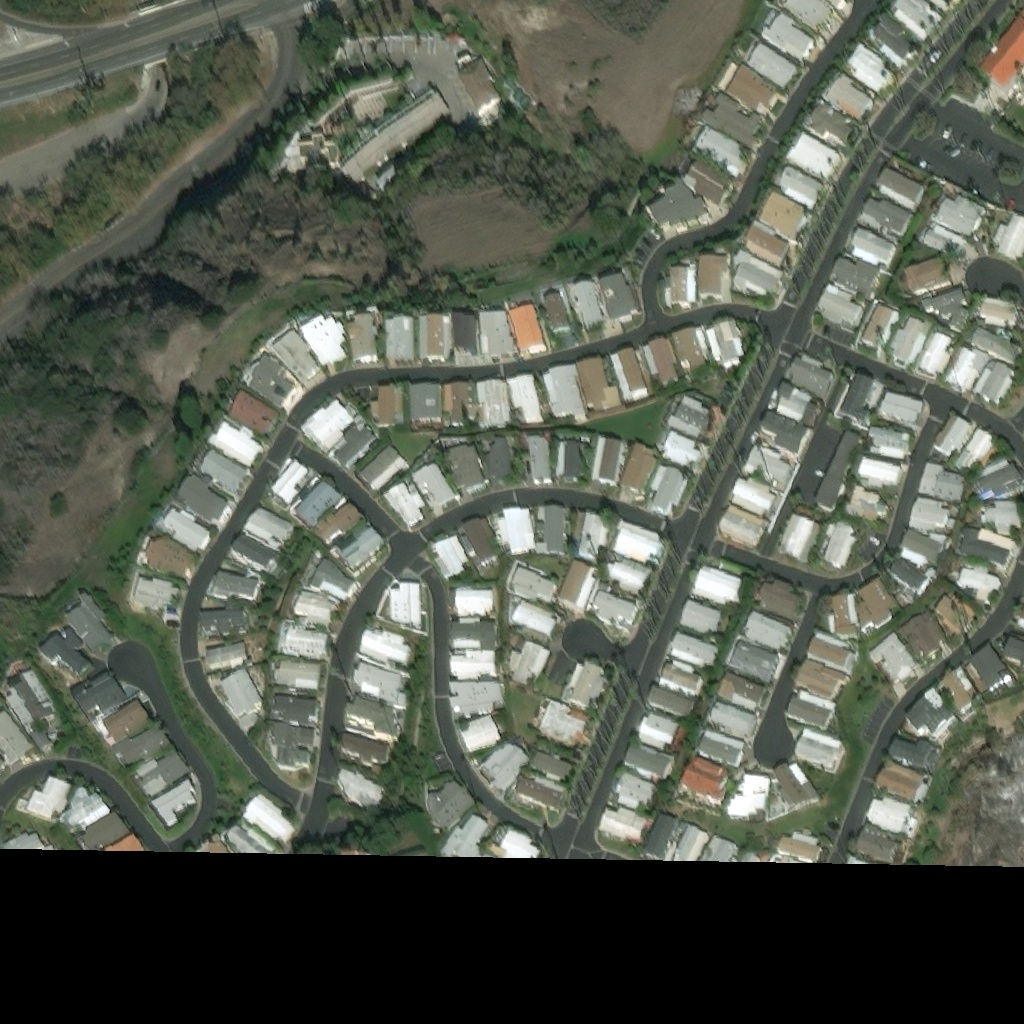0 no-damage: (334, 84, 447, 172), (714, 60, 788, 119), (814, 430, 866, 512), (919, 196, 986, 257), (660, 385, 726, 443), (975, 10, 1023, 89), (646, 178, 708, 235), (701, 95, 765, 150), (760, 0, 843, 40), (247, 352, 303, 411), (663, 254, 729, 304), (822, 73, 884, 126), (216, 670, 263, 736), (63, 588, 111, 652), (129, 748, 189, 798), (905, 691, 961, 744), (868, 634, 924, 687), (271, 329, 323, 386), (530, 700, 591, 748), (838, 371, 885, 433), (70, 669, 126, 719), (111, 721, 170, 768), (715, 500, 775, 546), (757, 407, 812, 457), (333, 526, 385, 577), (678, 756, 730, 807), (7, 688, 51, 747), (787, 134, 842, 181), (14, 773, 71, 818), (742, 221, 799, 266), (693, 126, 744, 176), (731, 249, 784, 297), (759, 13, 813, 60), (805, 108, 860, 154), (302, 398, 352, 448), (144, 533, 194, 582), (41, 623, 89, 674), (771, 764, 822, 812), (898, 616, 950, 663), (746, 43, 798, 90), (884, 734, 942, 776), (207, 420, 261, 465), (793, 657, 849, 700), (847, 45, 895, 95), (175, 473, 226, 520), (870, 17, 917, 68), (962, 535, 1019, 577), (826, 251, 878, 297), (858, 580, 899, 638), (16, 670, 58, 726), (428, 782, 476, 831), (58, 786, 110, 831), (575, 356, 619, 409), (875, 764, 929, 807), (245, 799, 295, 845), (101, 697, 151, 743), (788, 353, 838, 399), (795, 730, 846, 775), (805, 630, 858, 673), (857, 196, 911, 238), (358, 445, 406, 492), (295, 479, 341, 528), (970, 657, 1019, 703), (300, 315, 345, 365), (973, 463, 1023, 508), (903, 258, 953, 303), (726, 638, 779, 680), (542, 363, 584, 416), (326, 420, 374, 466), (921, 291, 969, 337), (151, 780, 196, 829), (316, 504, 365, 549), (610, 517, 661, 560), (608, 342, 649, 395), (481, 745, 527, 792), (451, 57, 497, 104), (229, 390, 277, 435), (890, 319, 933, 369), (893, 0, 943, 43), (449, 447, 488, 502), (784, 690, 836, 731), (943, 674, 987, 722), (759, 194, 807, 238), (242, 502, 292, 544), (874, 396, 925, 437), (690, 559, 742, 599), (936, 602, 982, 647), (704, 318, 743, 371), (198, 448, 246, 491), (506, 641, 549, 689), (754, 576, 803, 618), (557, 560, 595, 614), (413, 466, 454, 516), (777, 511, 818, 561), (971, 332, 1023, 371), (134, 576, 178, 622), (228, 527, 276, 569), (621, 741, 669, 783), (919, 468, 967, 510), (858, 304, 900, 352), (352, 665, 406, 702), (345, 698, 396, 737), (510, 601, 555, 645), (947, 353, 991, 398), (161, 506, 207, 549), (462, 513, 500, 565), (508, 304, 546, 356), (716, 669, 764, 710), (867, 799, 917, 838), (567, 660, 606, 710), (726, 777, 770, 821), (686, 159, 730, 203), (878, 167, 923, 210), (779, 168, 825, 210), (694, 728, 744, 766), (272, 731, 315, 775), (510, 775, 564, 810), (959, 577, 1004, 619), (741, 439, 787, 480), (744, 608, 791, 648), (728, 472, 775, 512), (598, 805, 650, 841), (282, 629, 330, 668), (671, 325, 707, 377), (449, 684, 504, 718), (901, 535, 950, 573), (816, 284, 861, 325), (705, 699, 756, 735), (619, 440, 654, 492), (975, 365, 1016, 409), (605, 553, 650, 593), (917, 337, 956, 383), (0, 710, 32, 766), (310, 562, 357, 600), (644, 681, 692, 718), (844, 487, 892, 524), (956, 435, 998, 477), (384, 481, 424, 525), (851, 227, 896, 266), (642, 334, 678, 382), (890, 564, 932, 605), (346, 315, 381, 364), (269, 457, 307, 502), (497, 508, 535, 553), (648, 462, 684, 509), (857, 458, 908, 491), (910, 504, 958, 539), (478, 312, 513, 360), (295, 596, 338, 635), (935, 421, 974, 464), (77, 812, 132, 842), (359, 629, 409, 662), (599, 269, 632, 319), (336, 769, 383, 804), (668, 629, 715, 664), (589, 587, 636, 622), (759, 828, 822, 854), (868, 428, 912, 465), (279, 130, 333, 160), (270, 699, 319, 732), (538, 281, 570, 331), (656, 656, 700, 692), (823, 521, 856, 569), (274, 665, 325, 696), (534, 505, 566, 554), (477, 381, 511, 427), (508, 375, 542, 421), (198, 604, 245, 637), (409, 383, 441, 431), (418, 310, 450, 358), (442, 383, 476, 428), (637, 710, 678, 747), (433, 535, 468, 578), (449, 650, 496, 682), (449, 617, 496, 649), (573, 510, 604, 558), (590, 433, 621, 481), (989, 704, 1023, 747), (677, 596, 720, 630), (512, 568, 556, 601), (826, 595, 859, 639), (462, 716, 500, 754), (444, 816, 489, 848), (659, 428, 701, 462), (855, 823, 898, 856), (573, 282, 604, 327), (209, 568, 257, 597), (993, 214, 1023, 260), (614, 772, 653, 807), (383, 316, 413, 361), (341, 734, 387, 763), (369, 386, 402, 426), (452, 315, 480, 362), (773, 385, 811, 419), (201, 642, 247, 670), (554, 439, 587, 478), (530, 751, 573, 780), (984, 509, 1022, 541), (486, 438, 513, 483), (525, 437, 551, 482), (391, 584, 420, 624), (980, 302, 1018, 332), (453, 586, 492, 614), (672, 825, 707, 852), (499, 830, 539, 849), (222, 828, 266, 844), (704, 834, 741, 853), (370, 157, 395, 182), (1006, 648, 1023, 677), (4, 828, 41, 840), (927, 0, 958, 14), (826, 0, 852, 15), (456, 51, 473, 67), (351, 168, 369, 183), (444, 31, 462, 40), (998, 333, 1012, 343)
